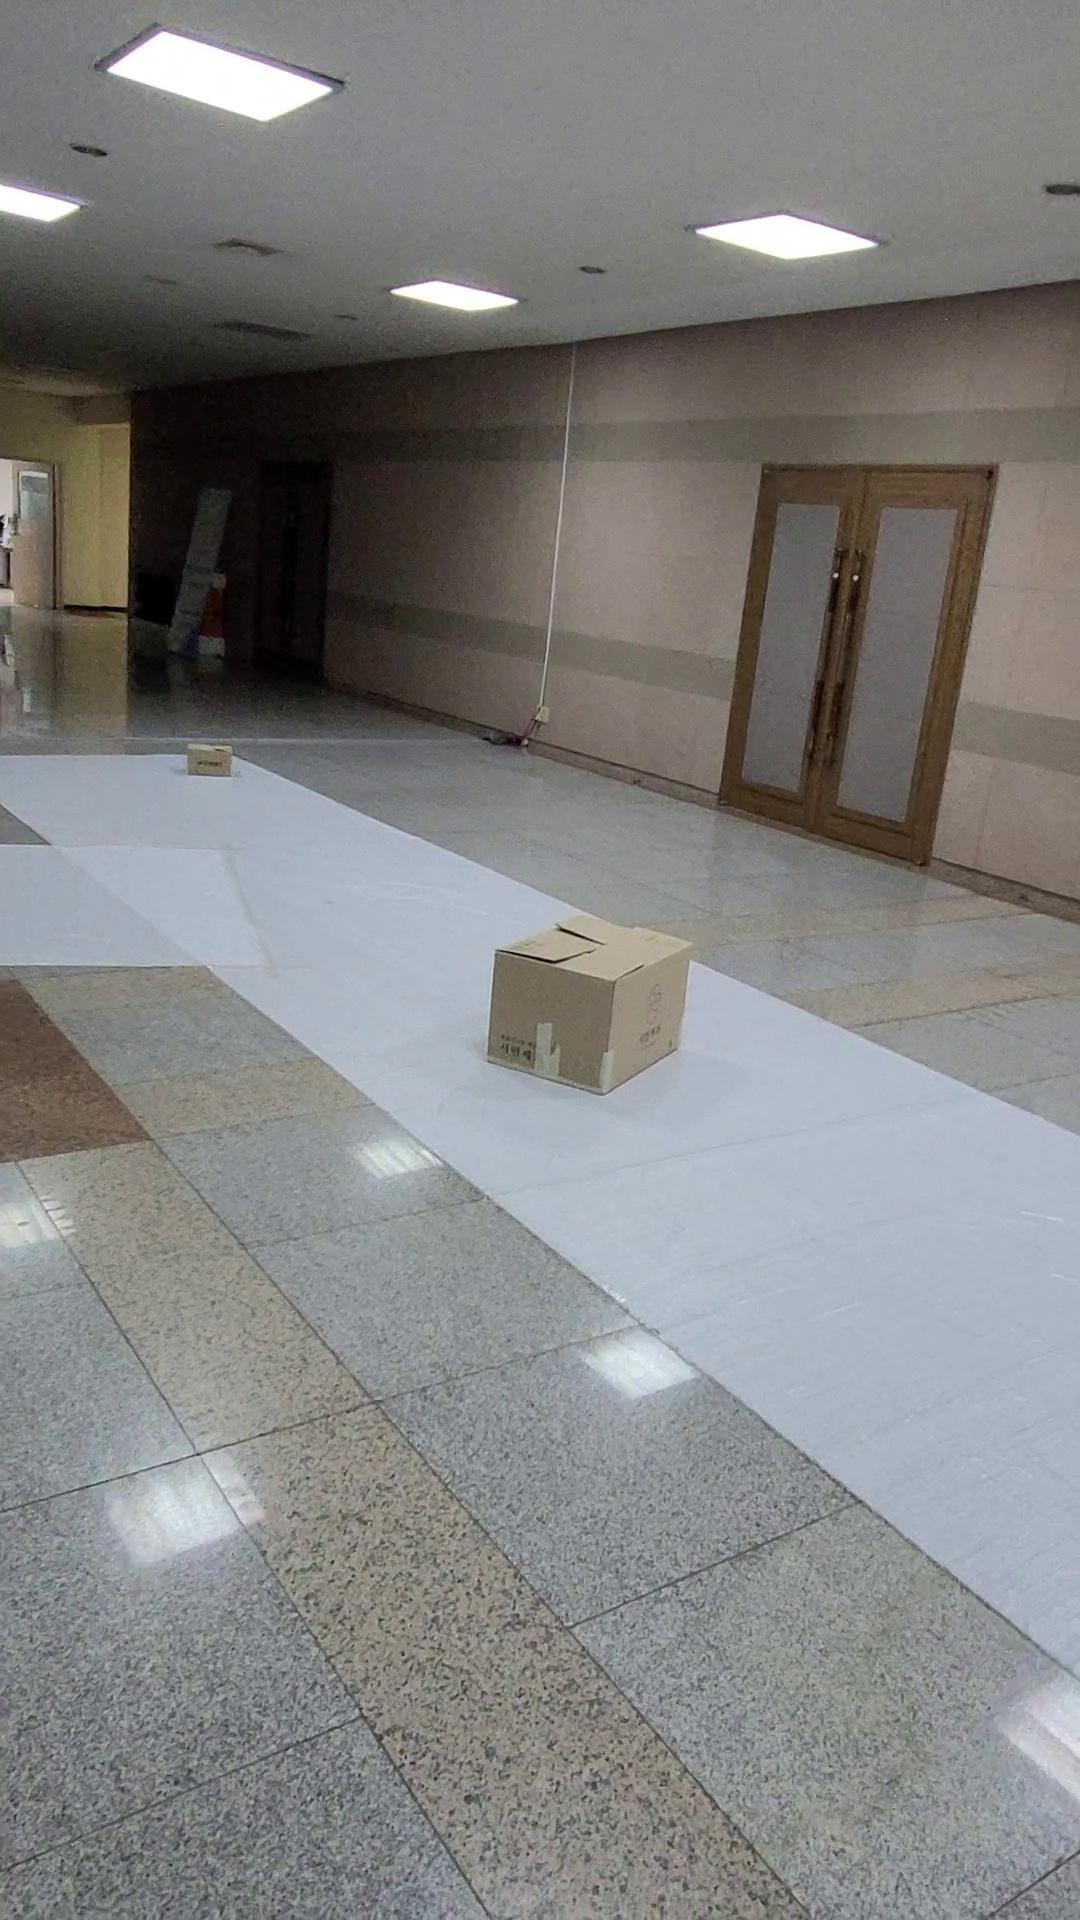Box: (429, 833, 709, 1125), (146, 725, 268, 804)
